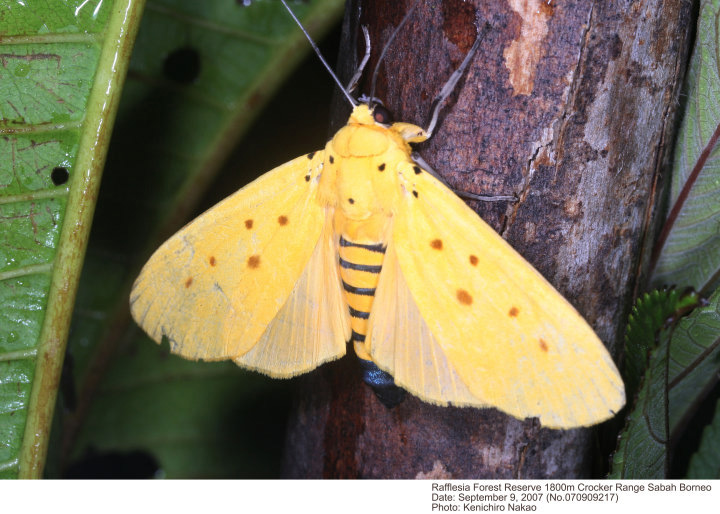Agape chloropyga: (121, 1, 628, 435)
moth: (123, 1, 630, 435)
